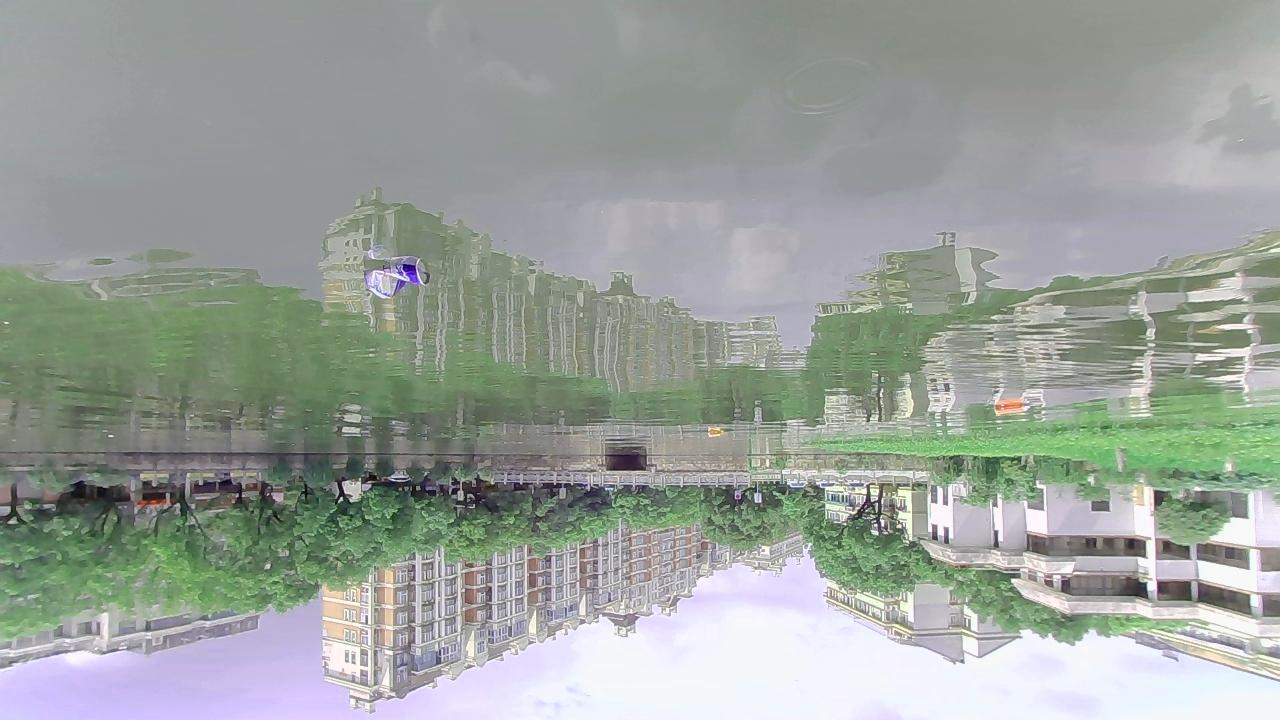Metal: (362, 263, 432, 300)
